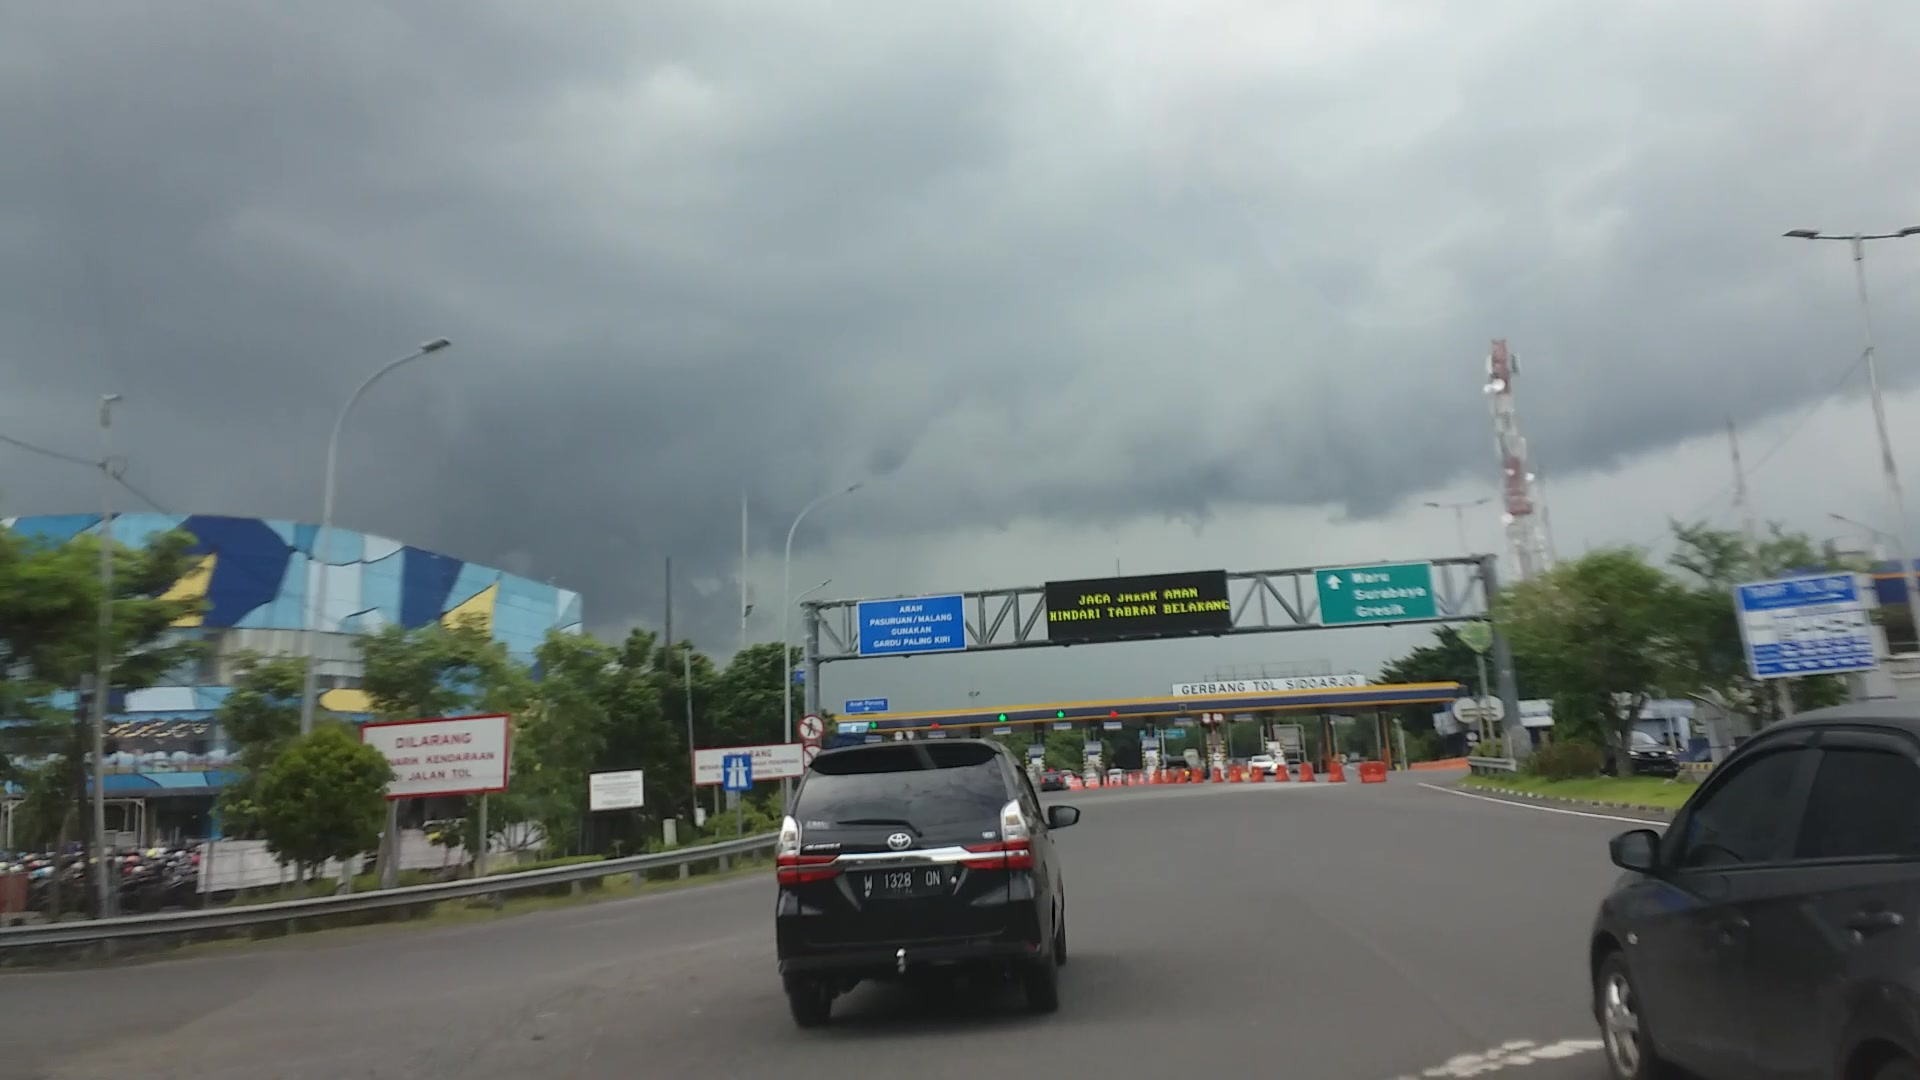plate_positive: (862, 868, 944, 898)
